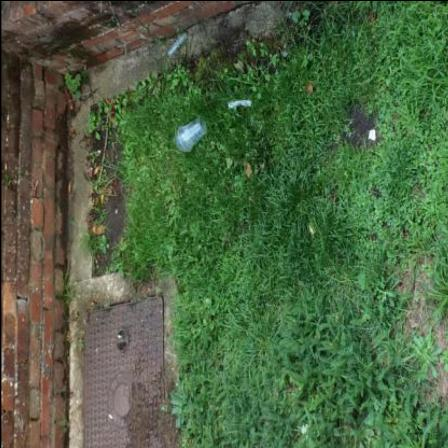Cigarette: (109, 415, 113, 421)
Cup: (178, 117, 206, 152)
Lid: (174, 129, 188, 152)
Other plastic: (229, 100, 252, 108)
Unlabeled litter: (168, 34, 186, 56)
